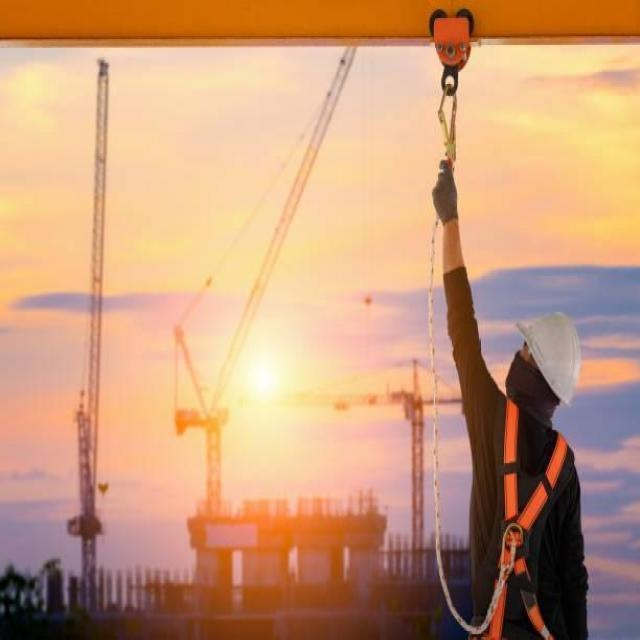Arnes_seguridad: (467, 397, 573, 639)
